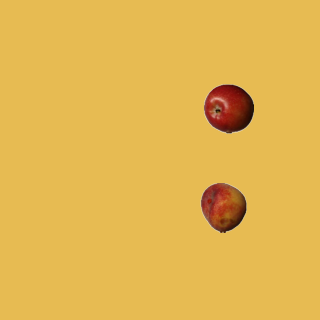Apple Braeburn: (203, 83, 253, 133)
Peach: (198, 182, 248, 232)
